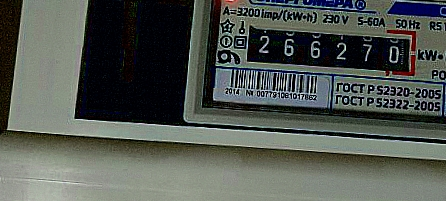0: (386, 43, 400, 64)
2: (255, 33, 272, 54), (333, 40, 349, 61)
6: (281, 35, 296, 57), (308, 39, 323, 60)
7: (359, 42, 372, 62)
screen: (236, 14, 424, 82)
